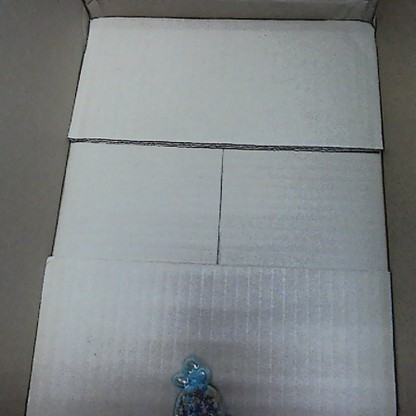bluefish: (164, 350, 226, 414)
